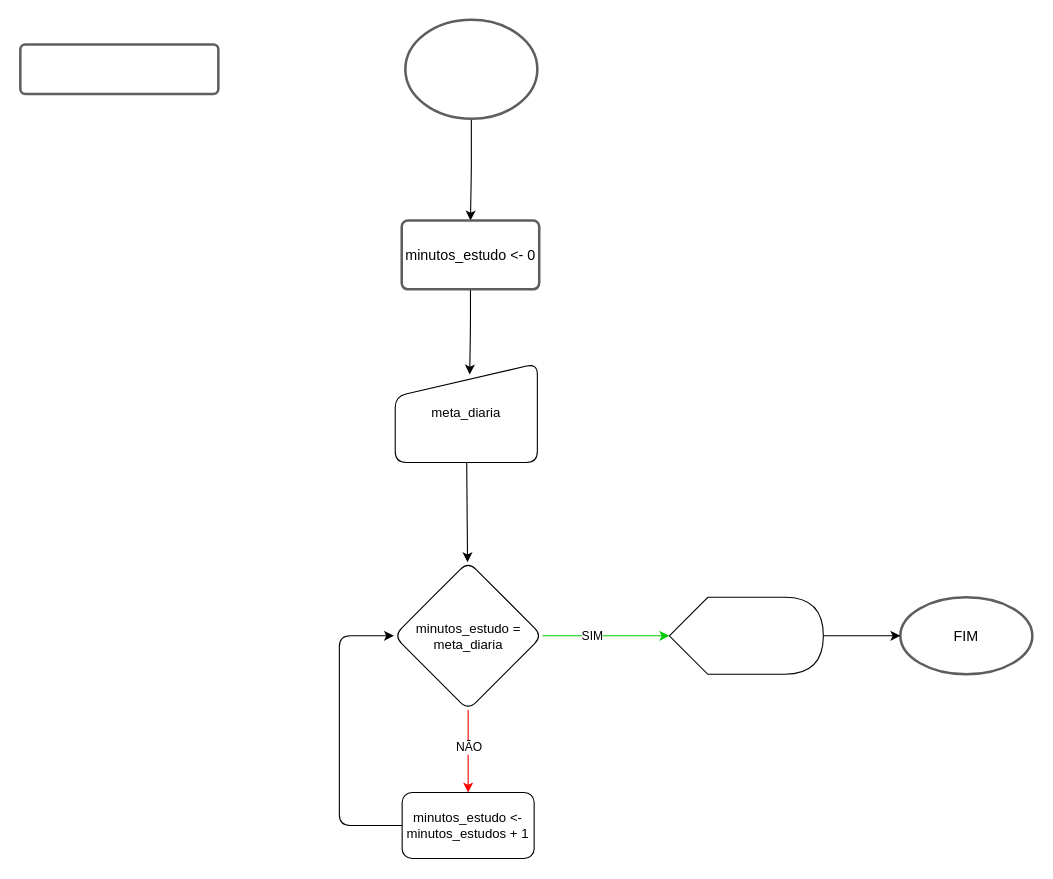
Some shapes in this 1053 by 879 pixel diagram are drawn without their labels. The shapes that lost their labels are listed below. From the top down, each one's centre as x and y in pixels, then its label:
point 119,69: QUESTÃO 06 - AdemarROV
point 471,69: INICIO
point 745,635: "Meta atingida! Bom descanso!"
